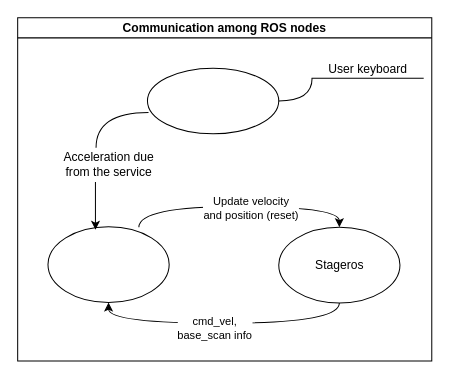
The diagram is 449 pixels wide and 379 high, and some of its shapes have lost their labels. Here are the shapes that lost their labels. From the top down, the box of each, then its label:
(146, 67, 279, 134): User interface
(47, 226, 169, 302): Controller
